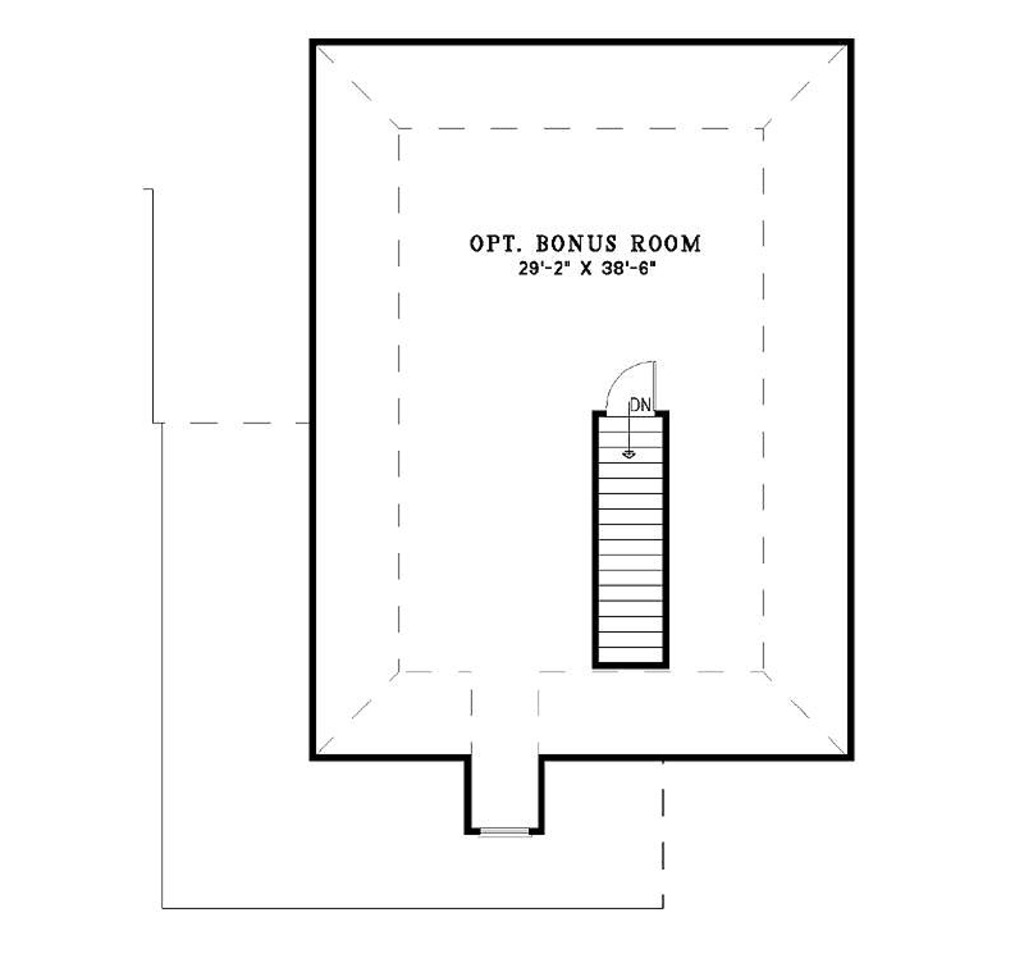door: (600, 345, 661, 419)
stairs: (586, 411, 674, 679)
window: (478, 823, 534, 842)
